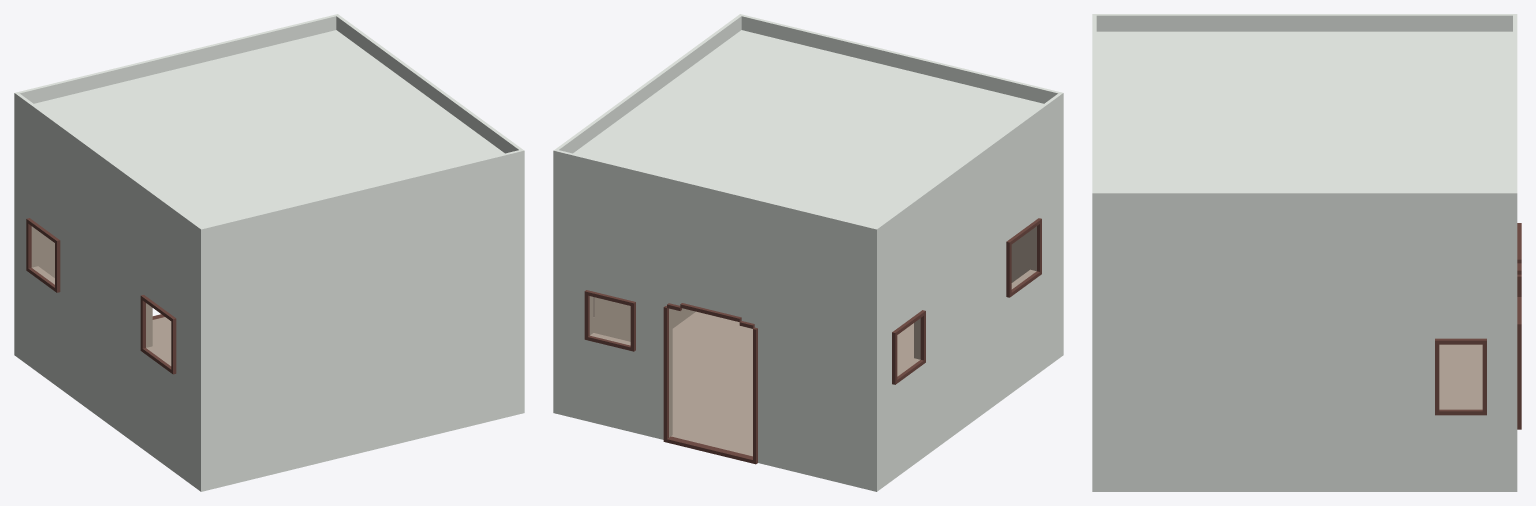
The model's file is GameJam-House4.obj.
The picture shows the model from 3 angles, left to right: view 1: azimuth 30°, elevation 25°; view 2: azimuth 150°, elevation 25°; view 3: azimuth 270°, elevation 25°; orthographic projection. The views are drawn at different scales.
Bounding box in the file's own units: 10 × 7.6 × 9.9.
